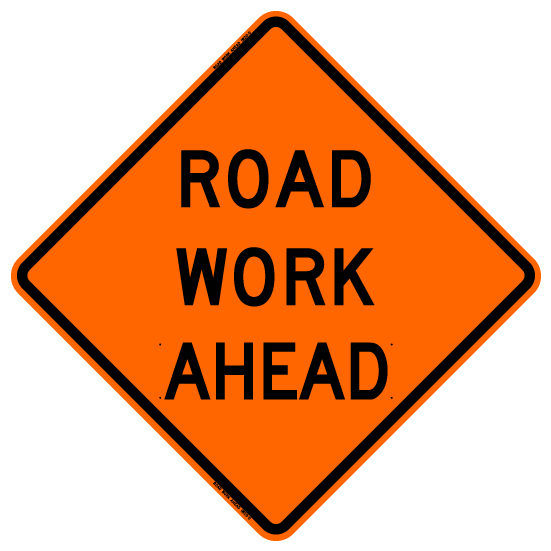Road_workahead: (2, 2, 544, 548)
